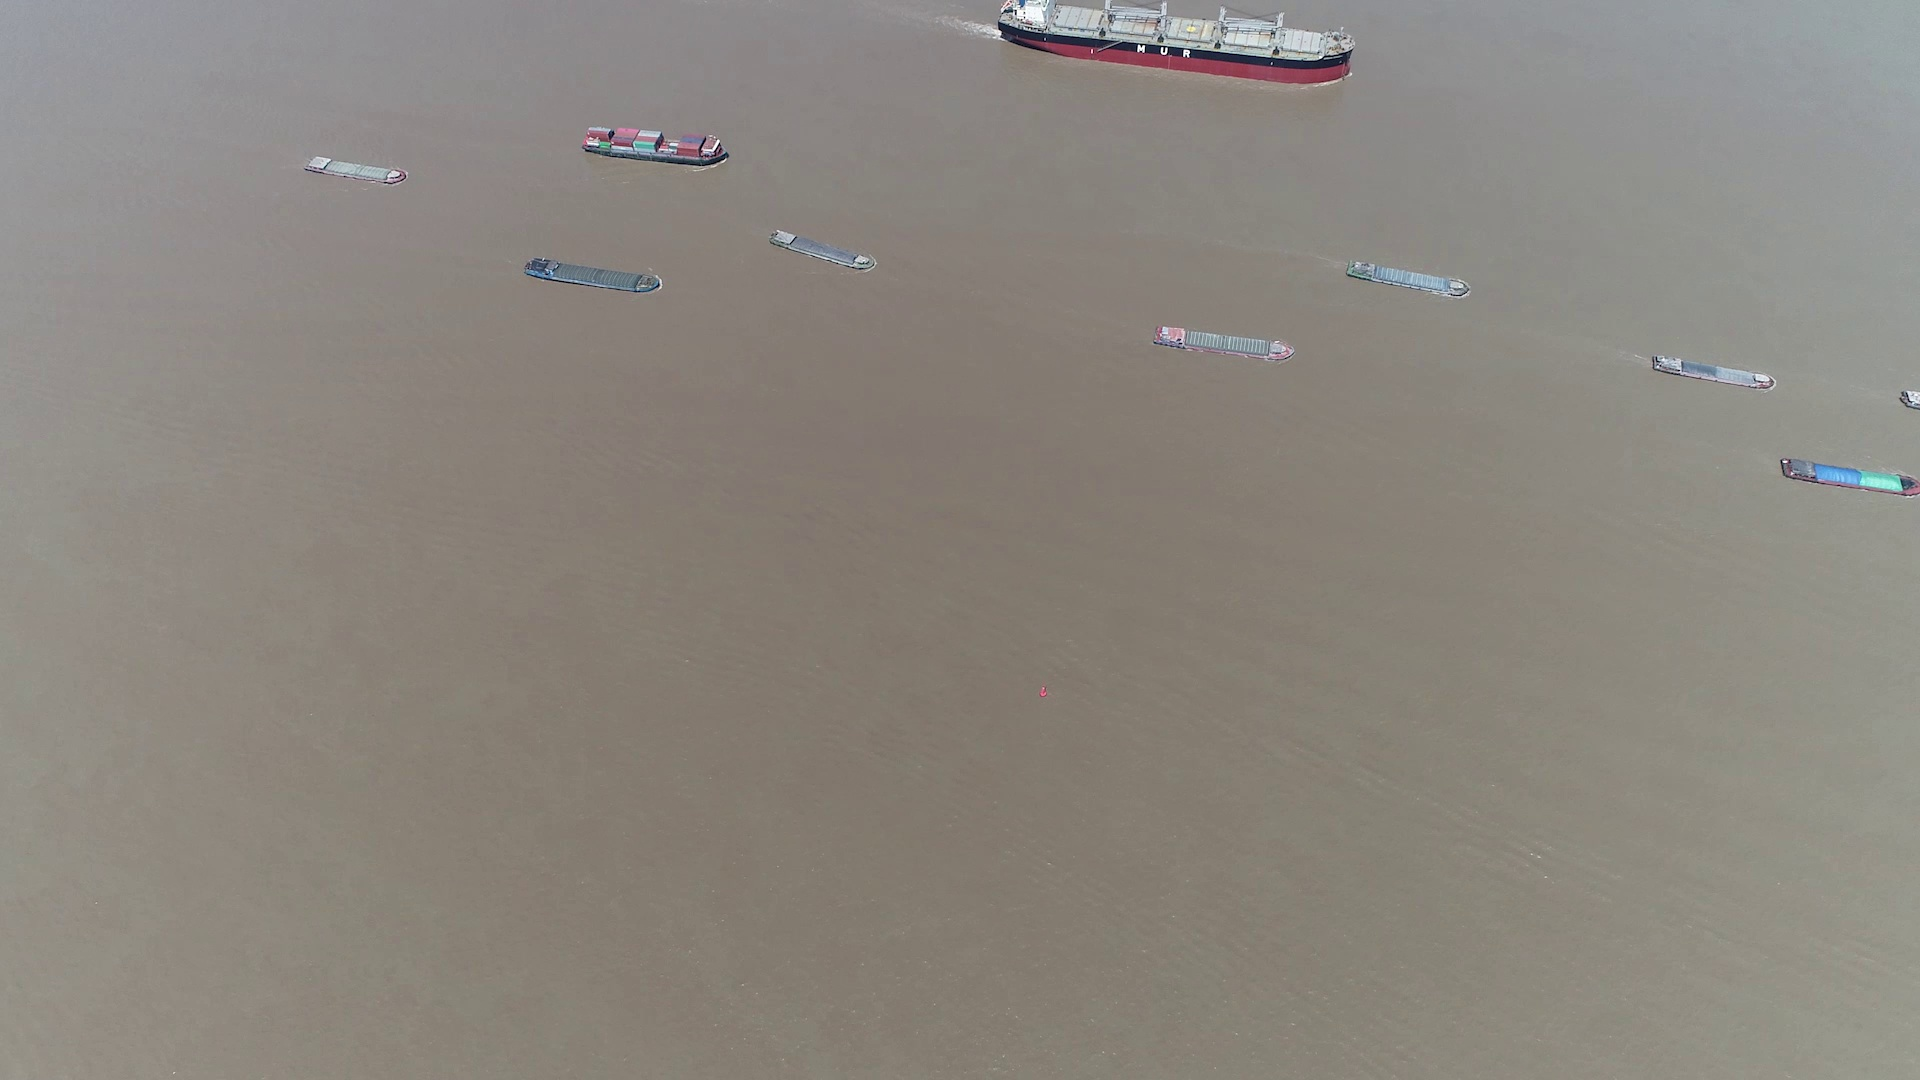ship: (998, 0, 1353, 84), (583, 124, 728, 165), (1151, 324, 1296, 364), (1782, 456, 1920, 497), (524, 258, 661, 295), (1346, 258, 1470, 298), (1651, 352, 1776, 390), (771, 229, 877, 274), (303, 156, 407, 183), (1900, 386, 1920, 410)
